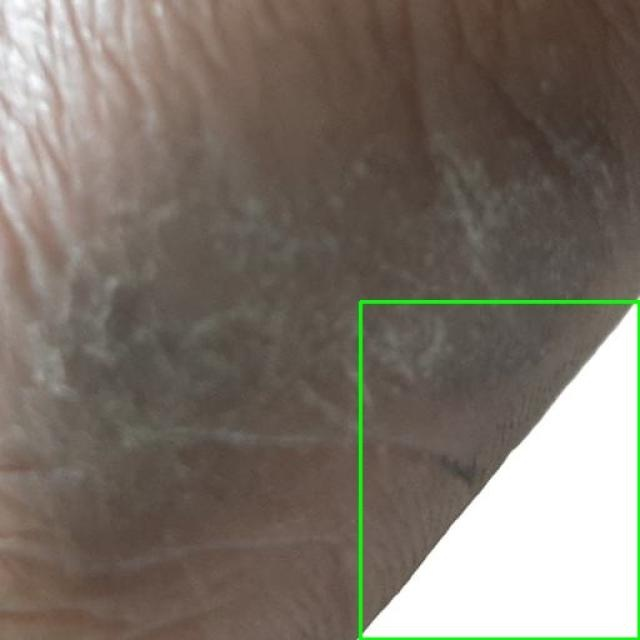Eczema: (360, 301, 639, 639)
